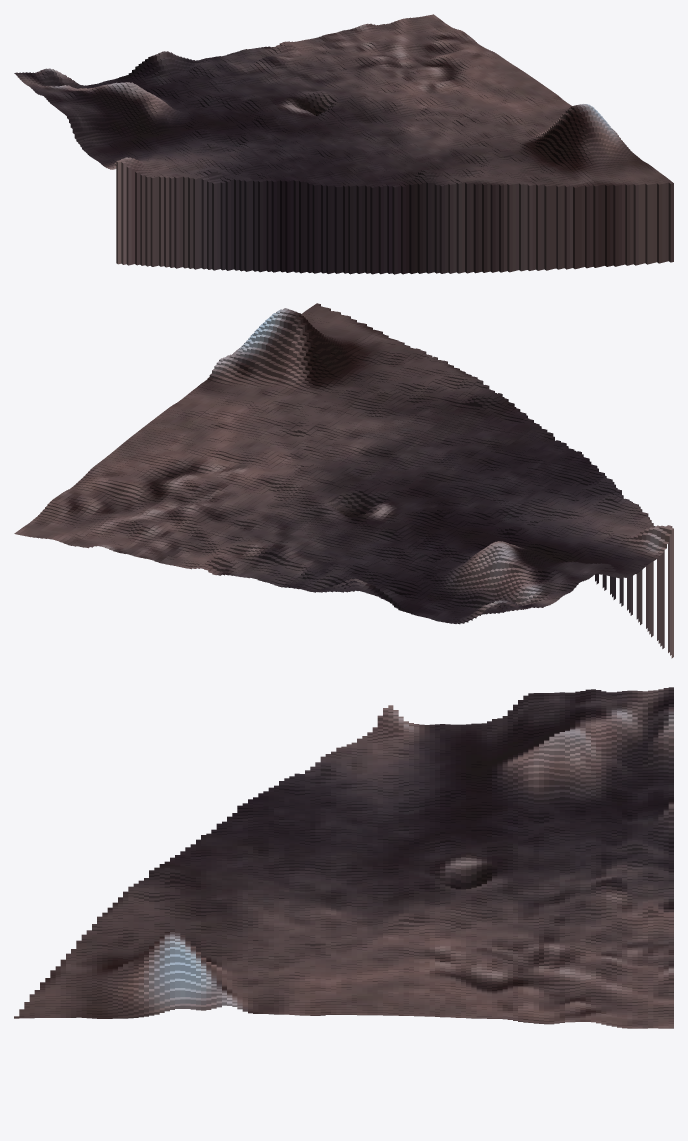
File: chunk-37.glb
The picture shows the model from 3 angles, top to bottom: view 1: azimuth 30°, elevation 25°; view 2: azimuth 150°, elevation 25°; view 3: azimuth 270°, elevation 25°; orthographic projection. The views are drawn at different scales.
Parts seen in each view (by area): view 1: Mesh_0.053; view 2: Mesh_0.053; view 3: Mesh_0.053.
Part boxes in pixels (box(x1,y1,x2,y2)): Mesh_0.053: box(14, 14, 673, 274); Mesh_0.053: box(14, 303, 673, 658); Mesh_0.053: box(14, 687, 673, 1028).
Bounding box in the file's own units: 32000 × 8928 × 31750.
